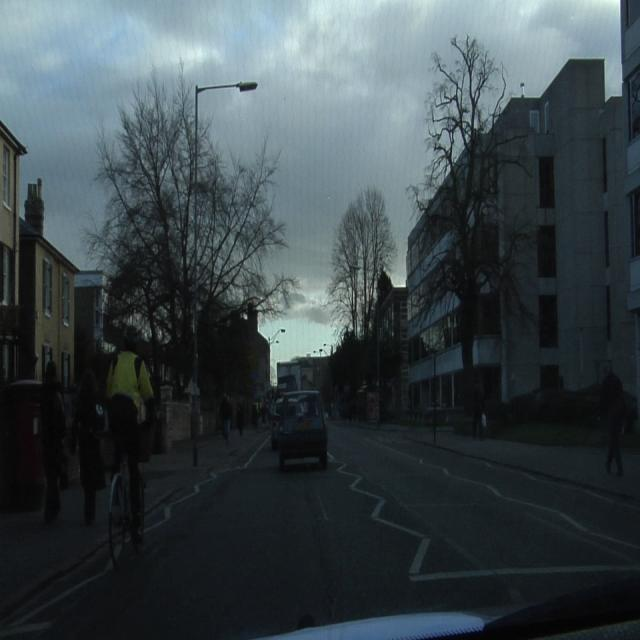Bicyclist: (106, 328, 154, 565)
Building: (483, 2, 638, 419), (1, 125, 103, 385)
Car: (275, 392, 327, 467)
Road: (0, 424, 639, 633)
Tree: (406, 0, 640, 413), (88, 83, 288, 380), (328, 188, 396, 338)
person: (72, 361, 105, 524), (41, 357, 67, 520), (601, 364, 625, 474), (220, 395, 231, 440)
